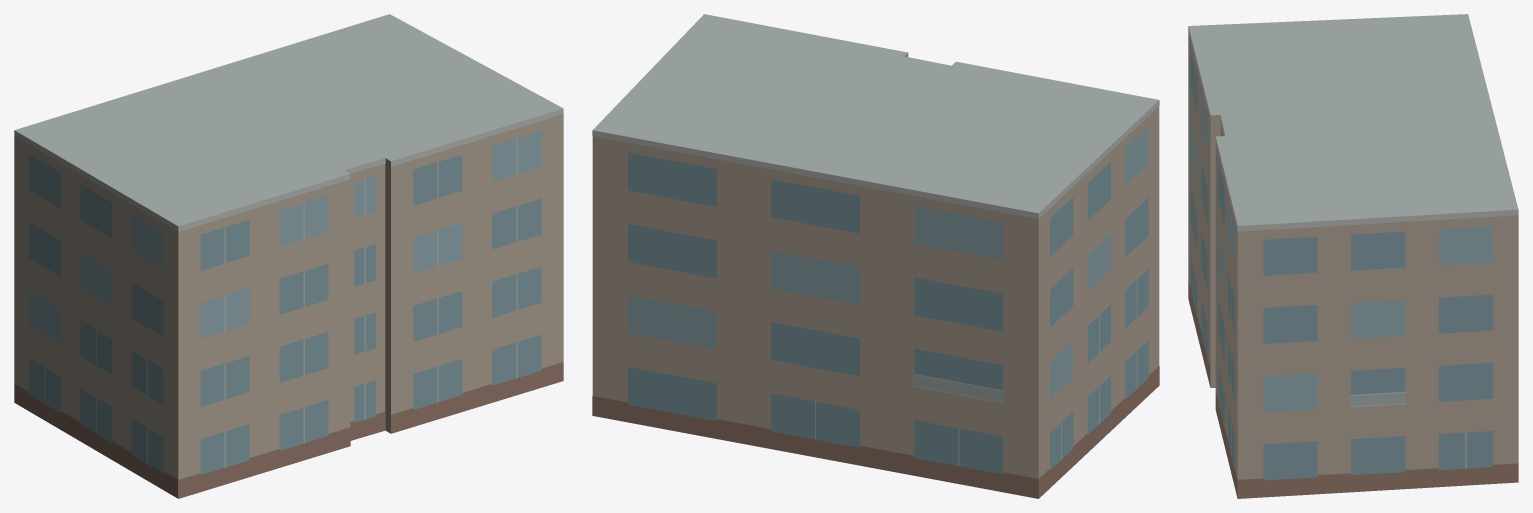
The model's file is survey-upis-32629459.glb.
3 views of the same model, side by side, from view 1: azimuth 30°, elevation 25°; view 2: azimuth 150°, elevation 25°; view 3: azimuth 270°, elevation 25° (orthographic). The views are drawn at different scales.
Parts seen in each view (by area): view 1: survey-upis-32629459.tmp; view 2: survey-upis-32629459.tmp; view 3: survey-upis-32629459.tmp.
Boxes of the visible parts, x1,y1,x2,y2 form: survey-upis-32629459.tmp: (14,14,563,498); survey-upis-32629459.tmp: (592,14,1159,498); survey-upis-32629459.tmp: (1188,14,1518,498).
Bounding box in the file's own units: 19.86 × 11.9 × 13.06.
